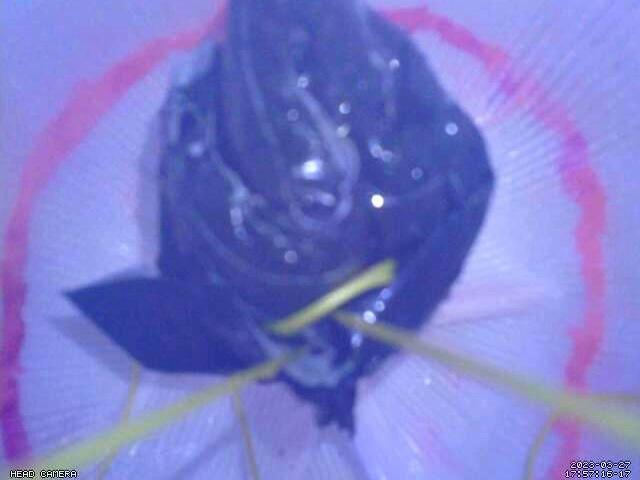head: (0, 0, 608, 480)
